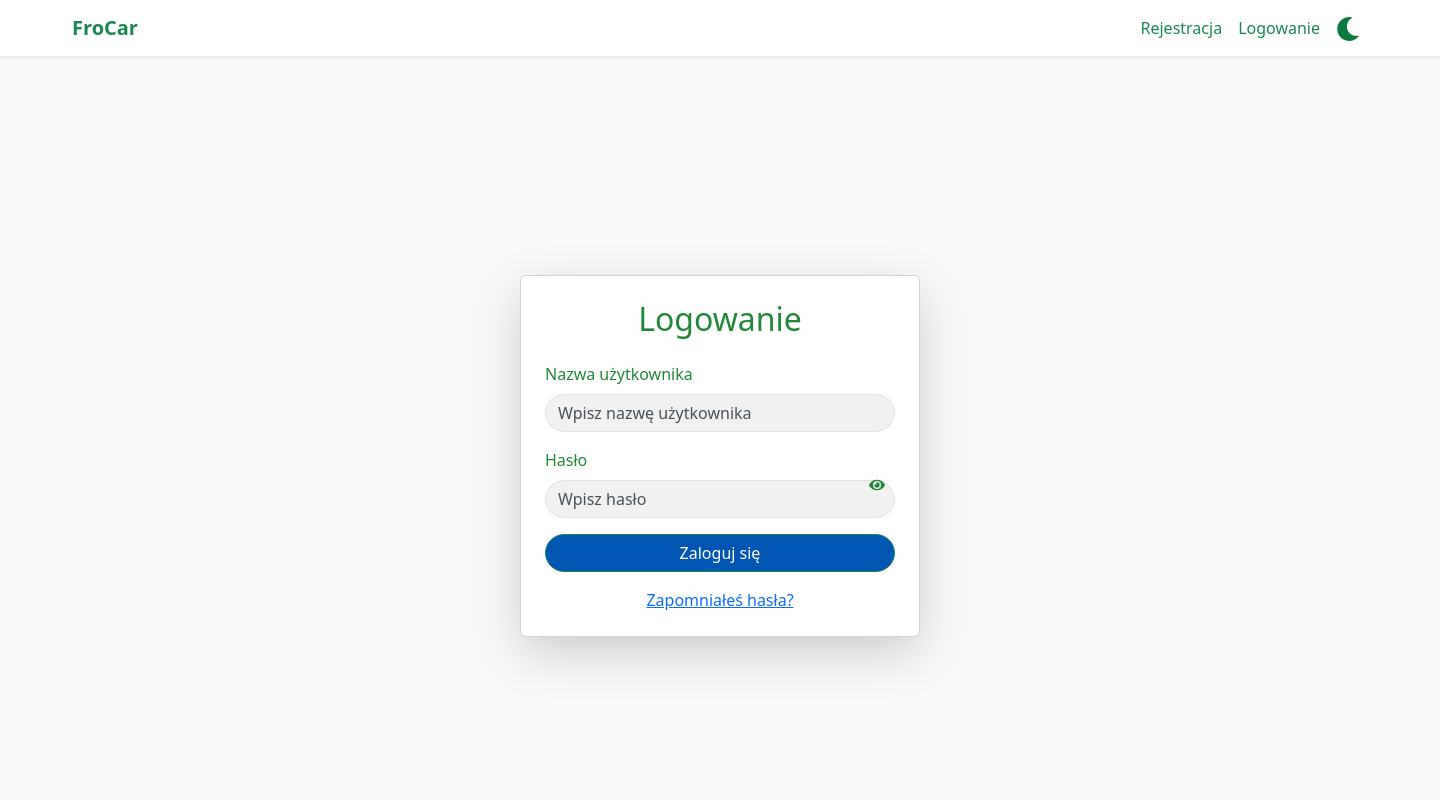
Test: LoginPage › powinien wyświetlać błąd przy pustym formularzu
This screenshot has width=1440, height=800.
Step 1. Click the submit button → (720, 553), box [545,534,895,572]
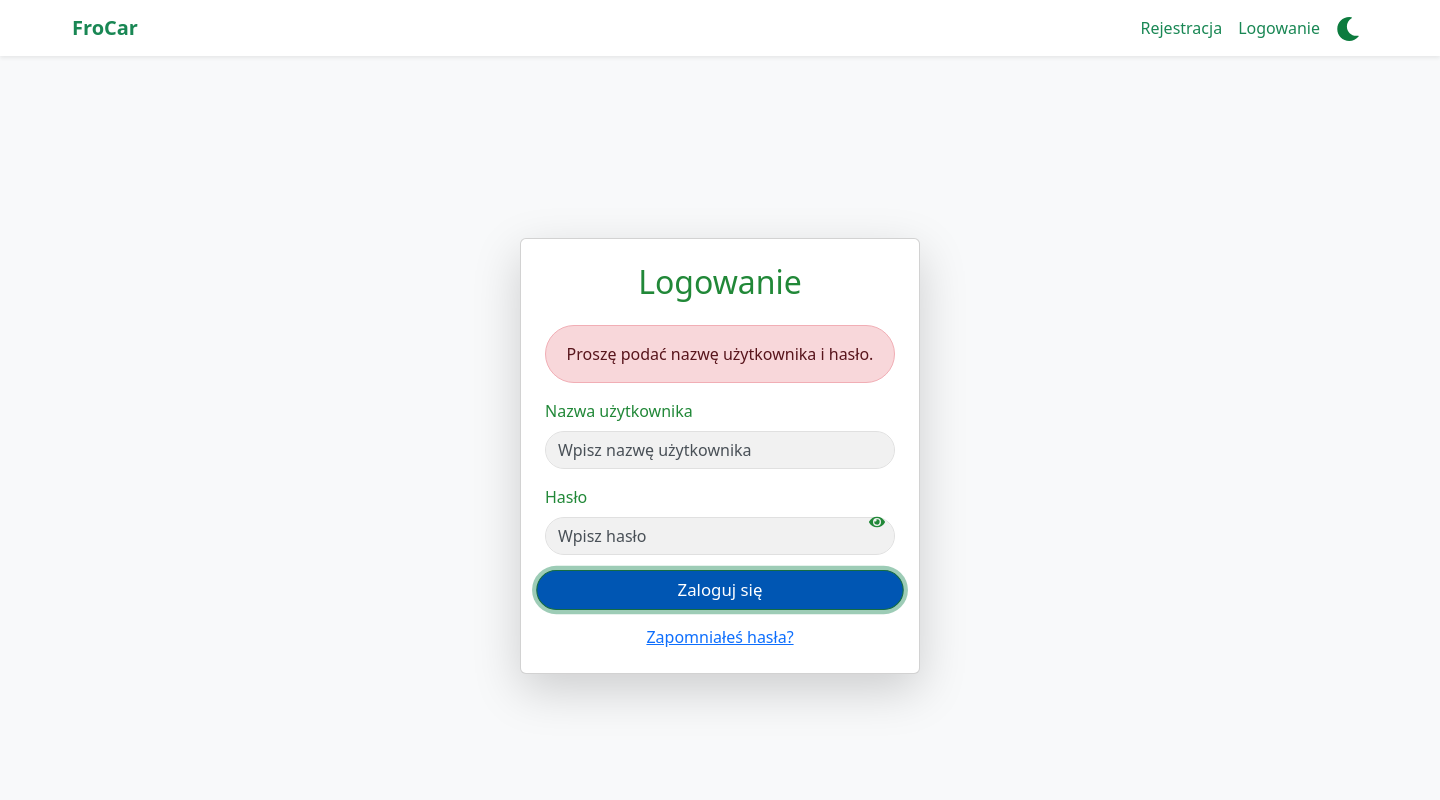
expect the text with class "alert" reads "Proszę podać nazwę użytkownika i hasło.": met, box [567,343,874,365]
